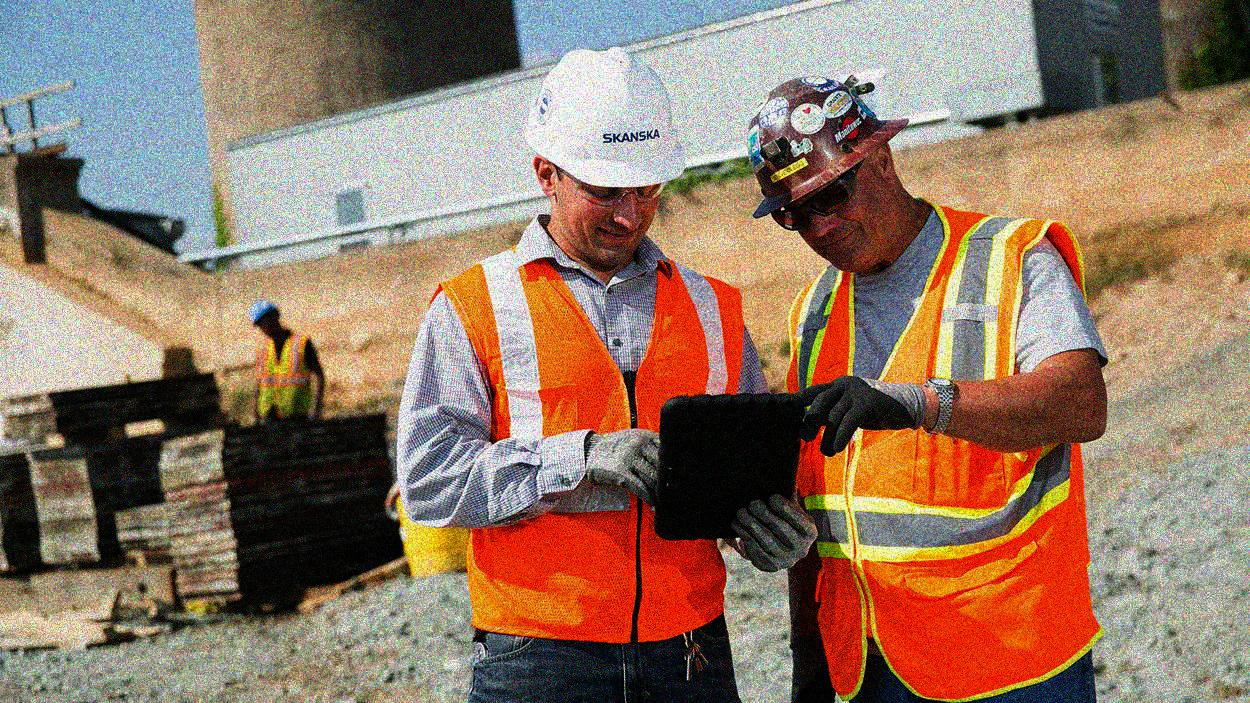helmet: (732, 69, 918, 279), (519, 42, 691, 269), (247, 299, 283, 341)
